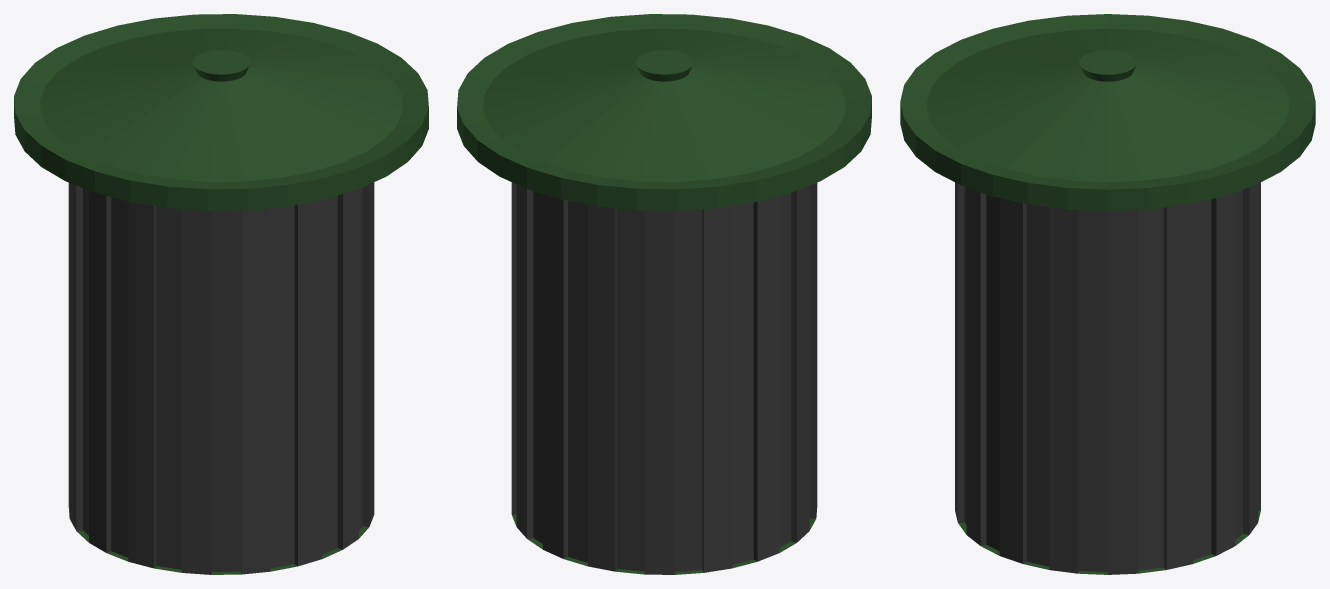
File: tonne.fbx
The picture shows the model from 3 angles, left to right: view 1: azimuth 30°, elevation 25°; view 2: azimuth 150°, elevation 25°; view 3: azimuth 270°, elevation 25°; orthographic projection.
Visible parts, largest first — view 1: Cylinder; view 2: Cylinder; view 3: Cylinder.
Boxes of the visible parts, box(x1,y1,x2,y2) form: Cylinder: box(14, 14, 428, 574); Cylinder: box(457, 14, 871, 574); Cylinder: box(900, 14, 1315, 574).
Bounding box in the file's own units: 116 × 138 × 116.
